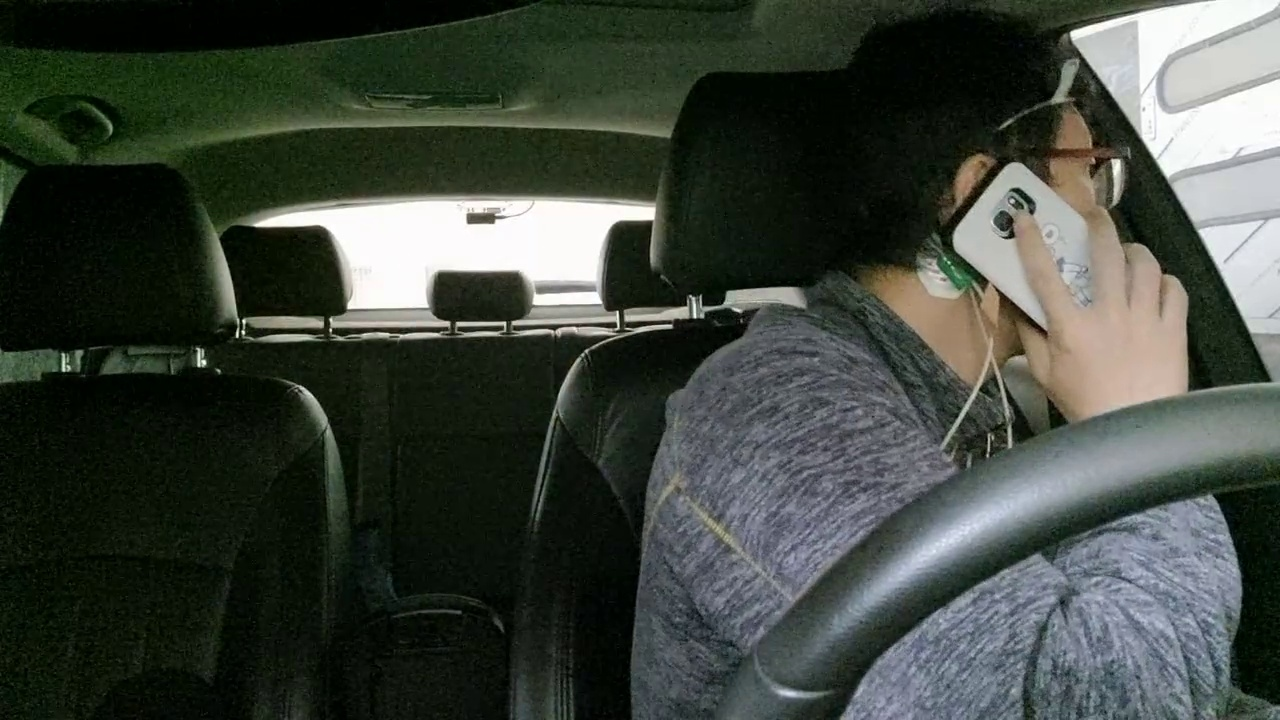phone: (923, 139, 1165, 395)
